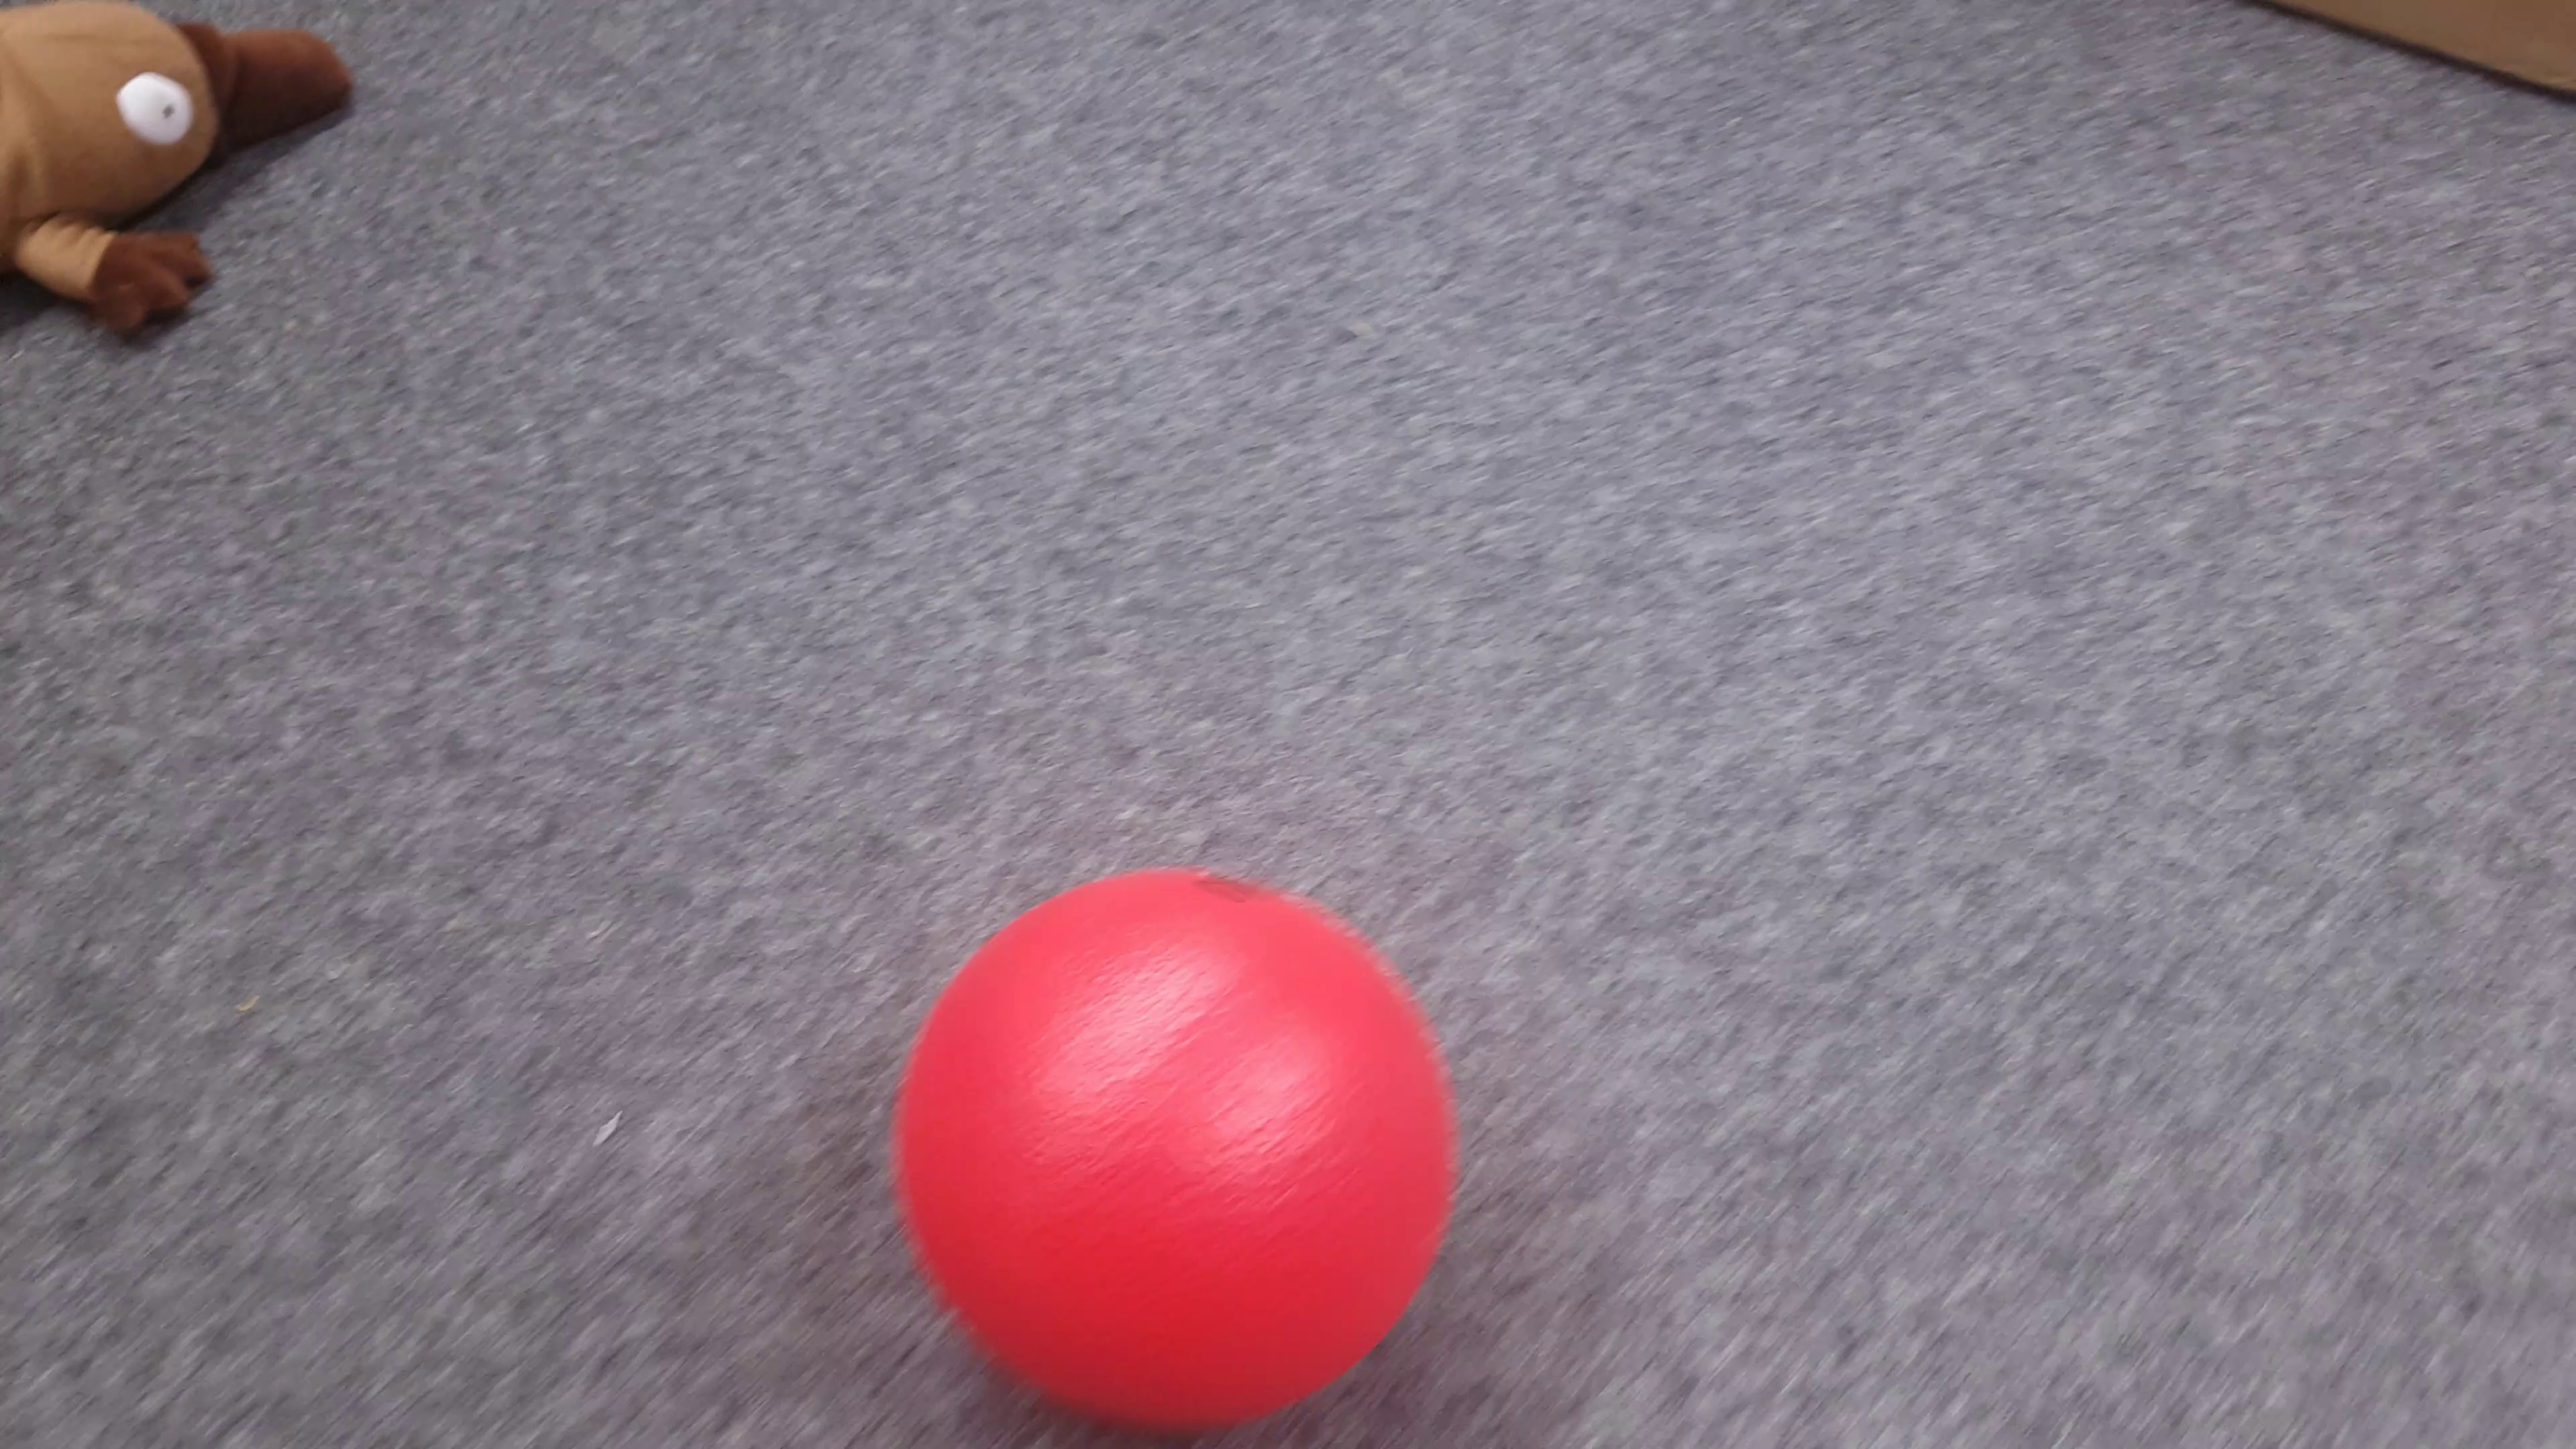grasp: (5, 4, 361, 356)
kick: (902, 870, 1461, 1424)
